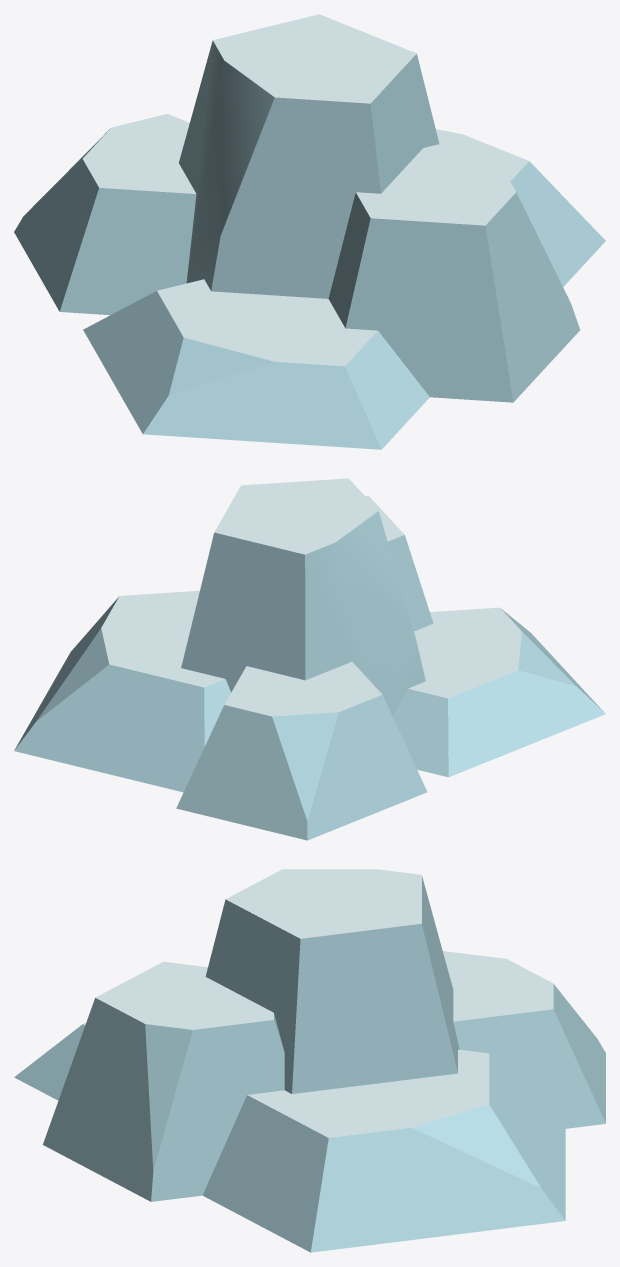
File: snow_detail_rocksLarge.fbx
3 renders of one model, top to bottom at view 1: azimuth 30°, elevation 25°; view 2: azimuth 150°, elevation 25°; view 3: azimuth 270°, elevation 25°, orthographic. The views are drawn at different scales.
Visible parts, largest first — view 1: snow_detail_rocksLarge; view 2: snow_detail_rocksLarge; view 3: snow_detail_rocksLarge.
Part boxes in pixels (x1=…): snow_detail_rocksLarge: x1=14, y1=14, x2=605, y2=449; snow_detail_rocksLarge: x1=14, y1=478, x2=605, y2=840; snow_detail_rocksLarge: x1=14, y1=869, x2=605, y2=1252.
Bounding box in the file's own units: 10 × 4.19 × 10.
